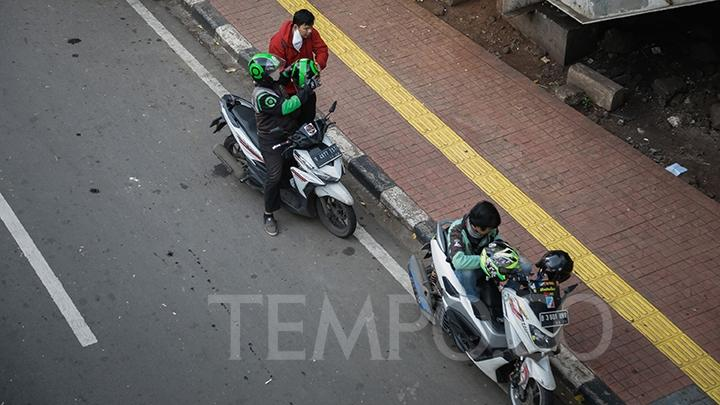motorbike: (409, 201, 576, 405), (219, 49, 358, 245)
